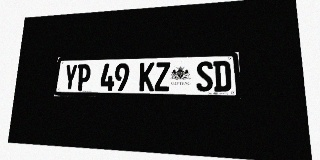4: (100, 63, 115, 91)
9: (114, 63, 130, 91)
D: (213, 61, 231, 92)
K: (139, 62, 155, 91)
P: (76, 64, 91, 91)
S: (196, 61, 213, 92)
Y: (63, 64, 78, 91)
Z: (154, 62, 170, 91)
